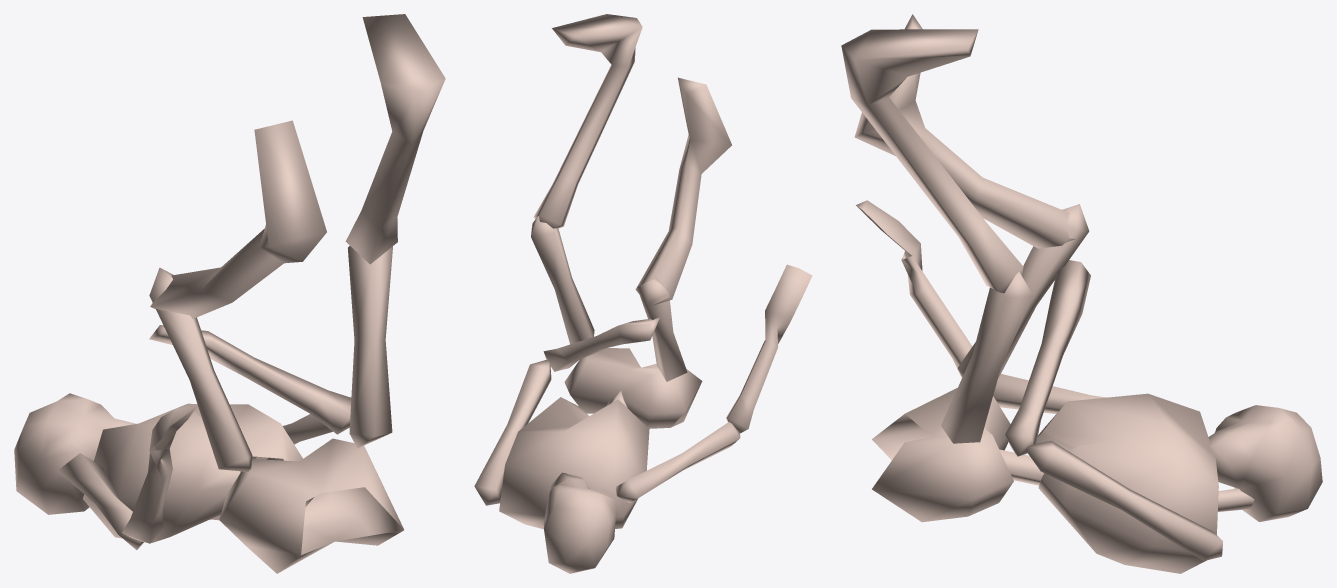
3 renders of one model, left to right at view 1: azimuth 30°, elevation 25°; view 2: azimuth 150°, elevation 25°; view 3: azimuth 270°, elevation 25°, orthographic. The views are drawn at different scales.
Visible parts, largest first — view 1: Object95; view 2: Object95; view 3: Object95.
Boxes of the visible parts, box(x1,y1,x2,y2) form: Object95: box(14, 14, 445, 573); Object95: box(474, 14, 812, 573); Object95: box(841, 14, 1322, 573).
Size of the model in its own units: 6761 by 12228 by 9499.
